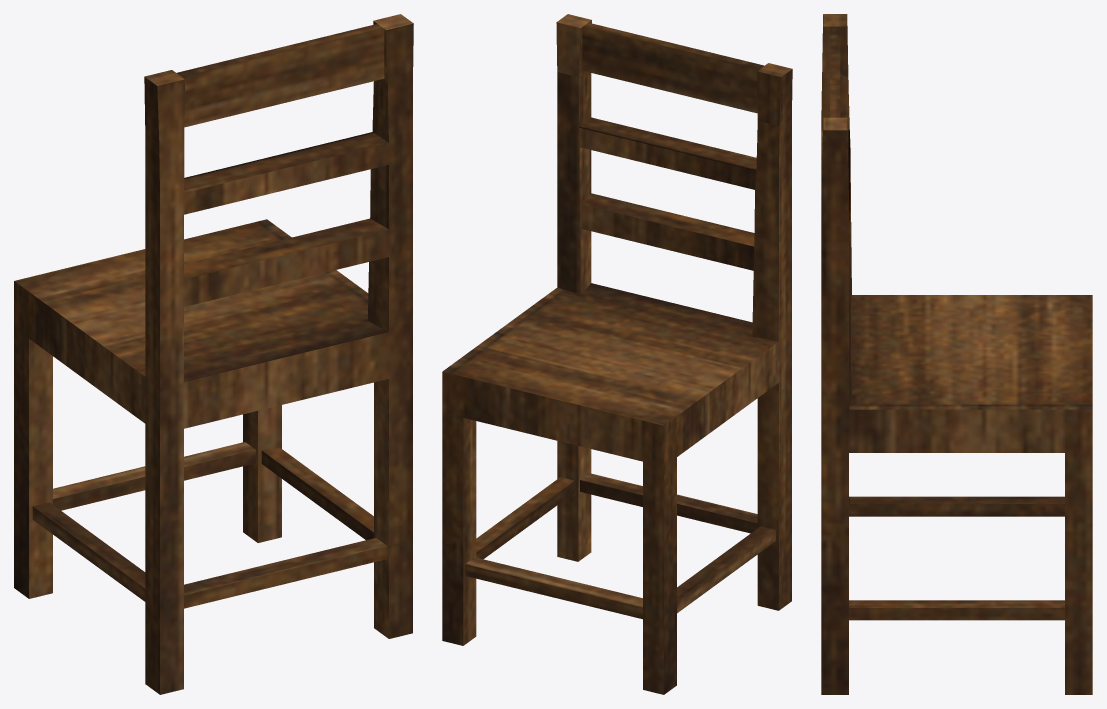
Rendered from chair.obj.
3 views of the same model, side by side, from view 1: azimuth 30°, elevation 25°; view 2: azimuth 150°, elevation 25°; view 3: azimuth 270°, elevation 25° (orthographic). The views are drawn at different scales.
Visible parts, largest first — view 1: chair; view 2: chair; view 3: chair.
Part boxes in pixels (x1=…): chair: x1=14, y1=14, x2=413, y2=694; chair: x1=442, y1=14, x2=792, y2=694; chair: x1=821, y1=14, x2=1092, y2=694.
Bounding box in the file's own units: 0.4781 × 1.08 × 0.4714.
